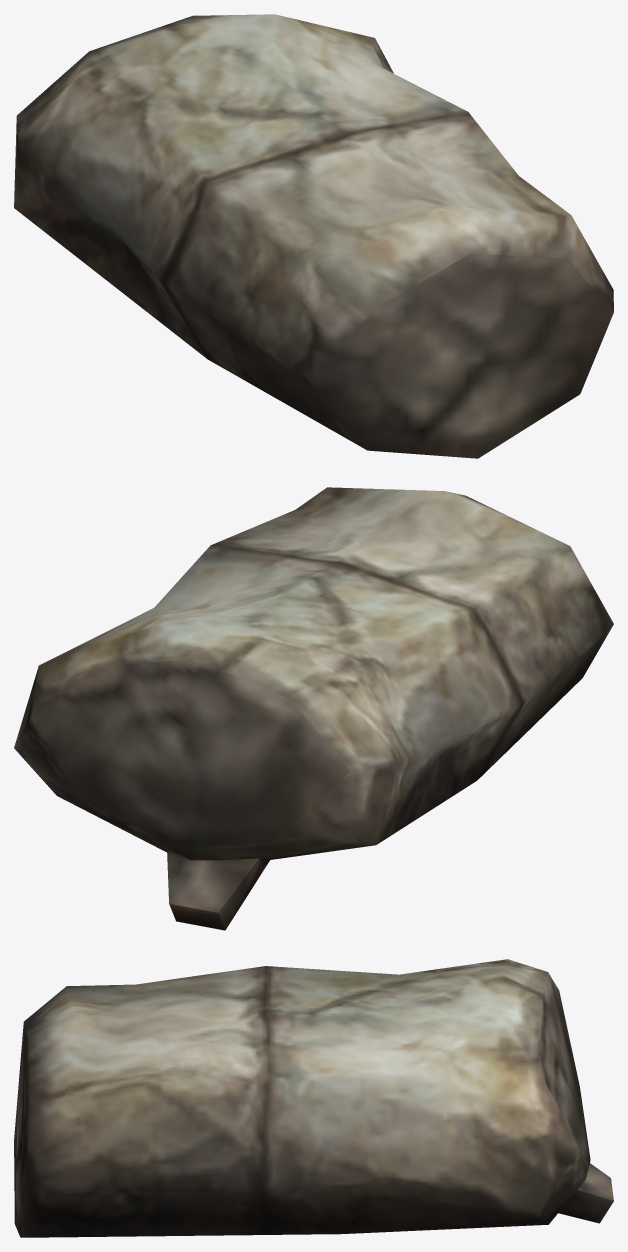
Rendered from huoshan_bone_02.FBX.
The picture shows the model from 3 angles, top to bottom: view 1: azimuth 30°, elevation 25°; view 2: azimuth 150°, elevation 25°; view 3: azimuth 270°, elevation 25°; orthographic projection. The views are drawn at different scales.
Visible parts, largest first — view 1: huoshan_bone_02; view 2: huoshan_bone_02; view 3: huoshan_bone_02.
Boxes of the visible parts, <box> form: huoshan_bone_02: <box>14,14,613,458</box>; huoshan_bone_02: <box>14,487,613,930</box>; huoshan_bone_02: <box>14,959,613,1237</box>.
Size of the model in its own units: 92.29 by 58.96 by 138.
